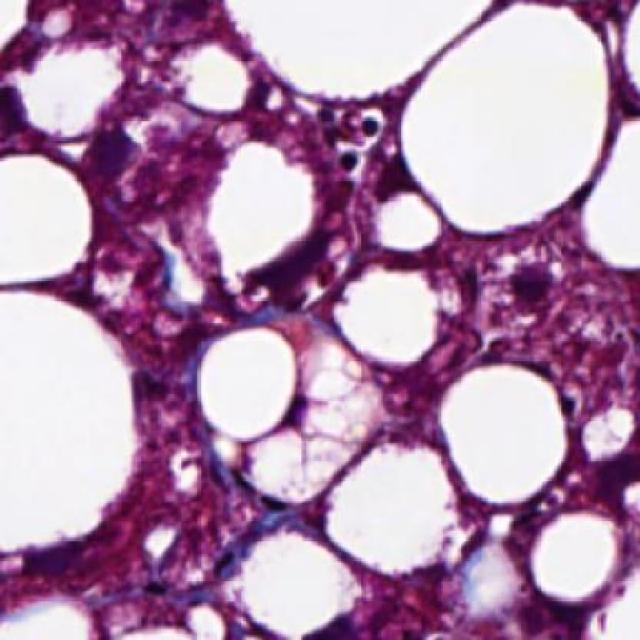inflammation: (497, 249, 568, 324), (320, 104, 391, 178)
